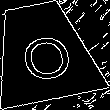O_N: (13, 23, 73, 81)
